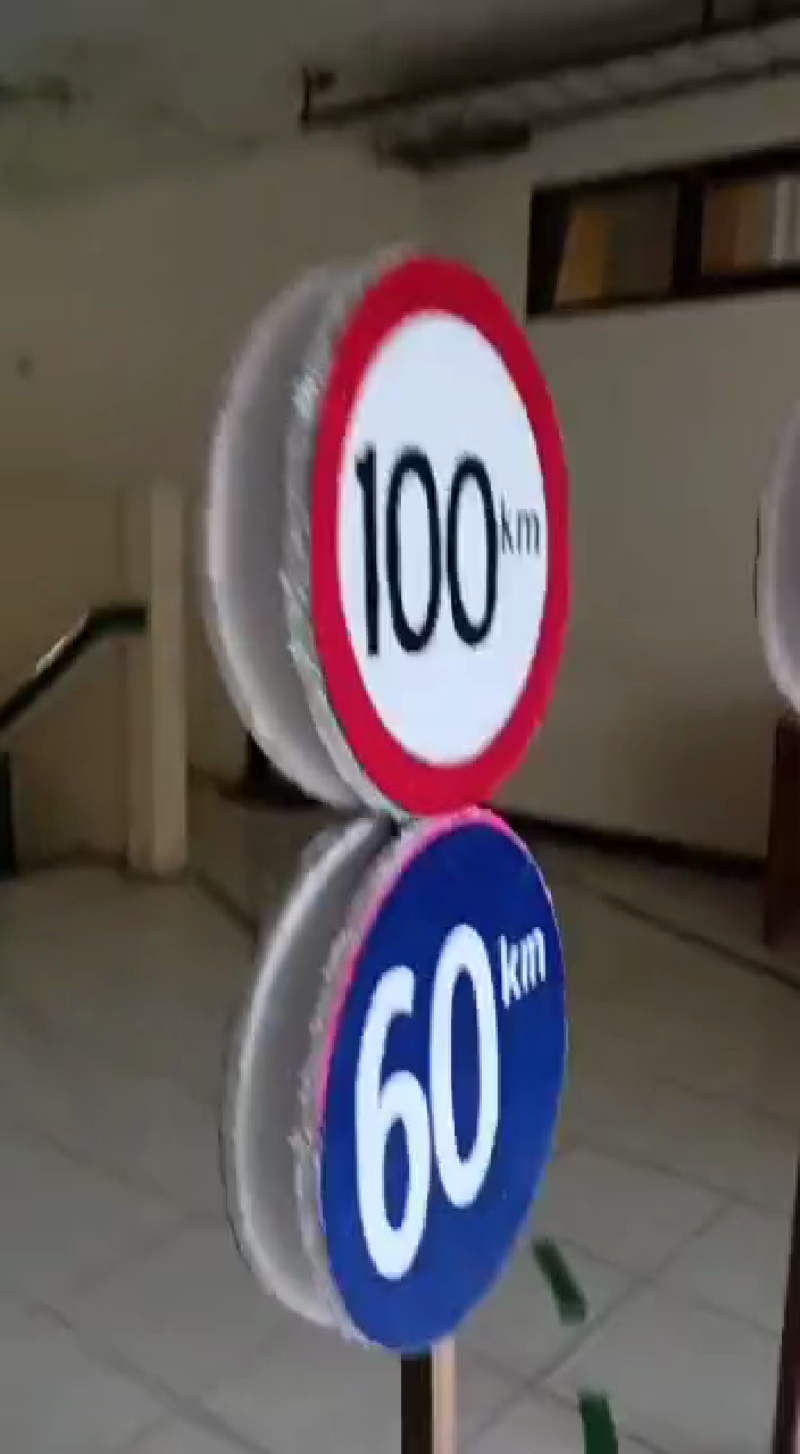batas maksimal 100kmperjam minimal 60kmperjam: (261, 222, 603, 1366)
